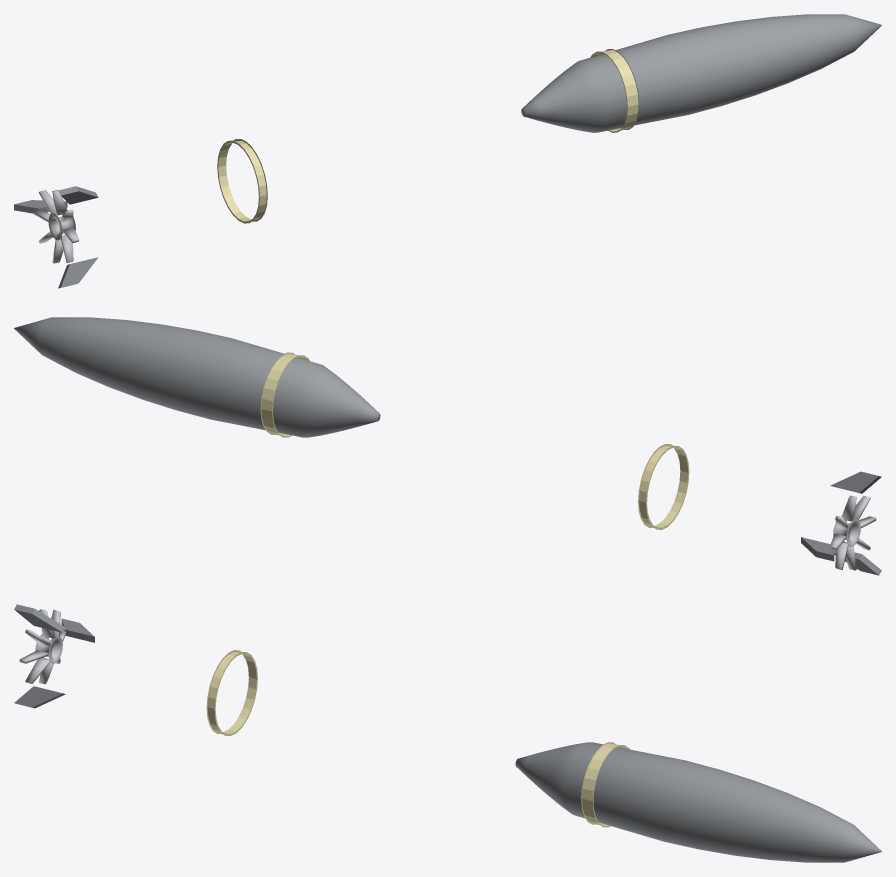
The model's file is US_TORP_Mk14_LOD1.fbx.
3 renders of one model, top to bottom at view 1: azimuth 30°, elevation 25°; view 2: azimuth 150°, elevation 25°; view 3: azimuth 330°, elevation 25°, orthographic.
Visible parts, largest first — view 1: WPN_US_TORP_Mk14_LOD1_Body, WPN_US_TORP_Mk14_LOD1_Marking, WPN_US_TORP_Mk14_LOD1_Propulsor, WPN_US_TORP_Mk14_LOD1_Fins; view 2: WPN_US_TORP_Mk14_LOD1_Body, WPN_US_TORP_Mk14_LOD1_Marking, WPN_US_TORP_Mk14_LOD1_Propulsor, WPN_US_TORP_Mk14_LOD1_Fins; view 3: WPN_US_TORP_Mk14_LOD1_Body, WPN_US_TORP_Mk14_LOD1_Marking, WPN_US_TORP_Mk14_LOD1_Fins, WPN_US_TORP_Mk14_LOD1_Propulsor.
Boxes of the visible parts, x1,y1,x2,y2 form: WPN_US_TORP_Mk14_LOD1_Body: (521, 14, 881, 132); WPN_US_TORP_Mk14_LOD1_Marking: (217, 49, 639, 223); WPN_US_TORP_Mk14_LOD1_Propulsor: (33, 189, 78, 263); WPN_US_TORP_Mk14_LOD1_Fins: (14, 186, 98, 288); WPN_US_TORP_Mk14_LOD1_Body: (14, 317, 380, 437); WPN_US_TORP_Mk14_LOD1_Marking: (260, 352, 689, 529); WPN_US_TORP_Mk14_LOD1_Propulsor: (830, 495, 876, 570); WPN_US_TORP_Mk14_LOD1_Fins: (801, 471, 881, 575); WPN_US_TORP_Mk14_LOD1_Body: (515, 742, 881, 862); WPN_US_TORP_Mk14_LOD1_Marking: (206, 650, 629, 827); WPN_US_TORP_Mk14_LOD1_Fins: (14, 604, 94, 708); WPN_US_TORP_Mk14_LOD1_Propulsor: (19, 609, 65, 684).
Bounding box in the file's own units: 6.22 × 0.6644 × 0.6967.
